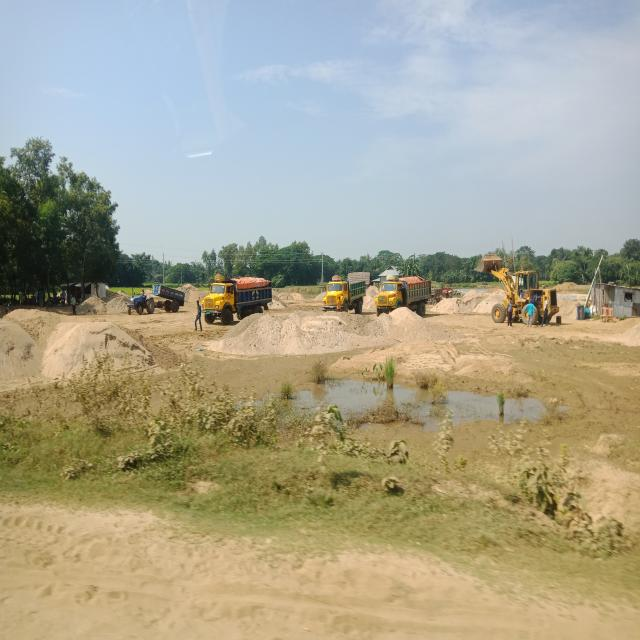truck: (197, 266, 275, 338), (120, 279, 184, 331), (375, 266, 433, 321), (319, 271, 370, 322)
